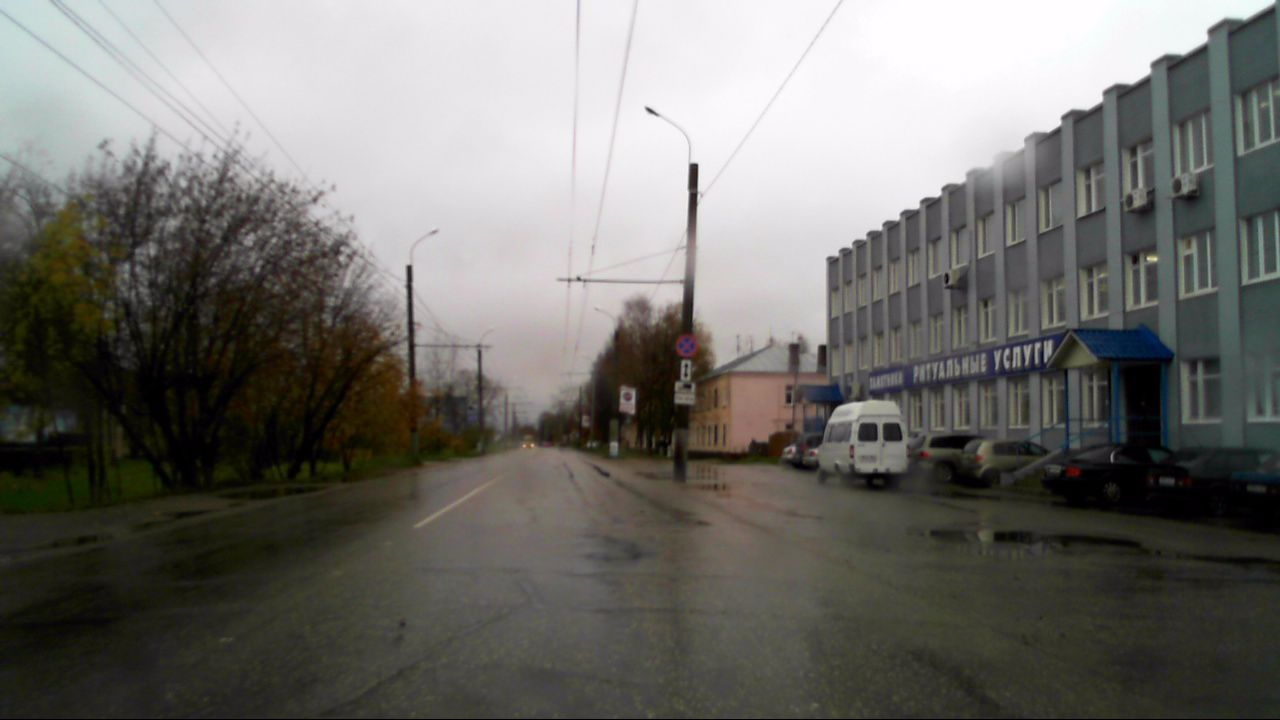No Parking: (673, 332, 700, 357)
